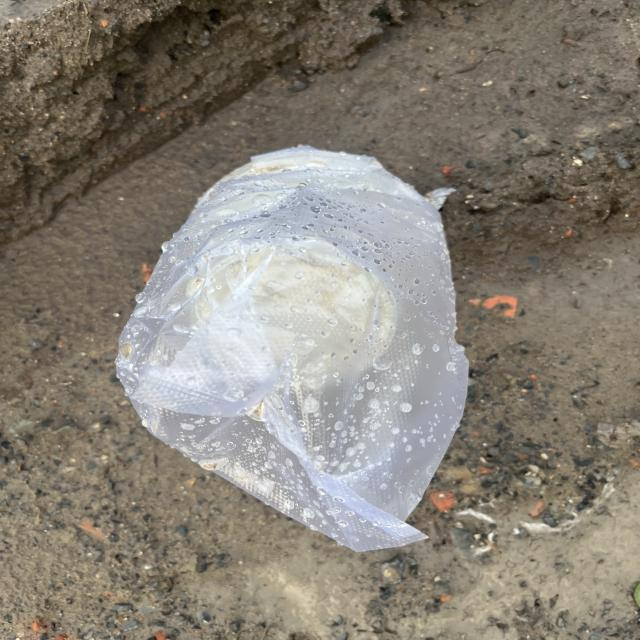bag: (115, 144, 471, 554)
